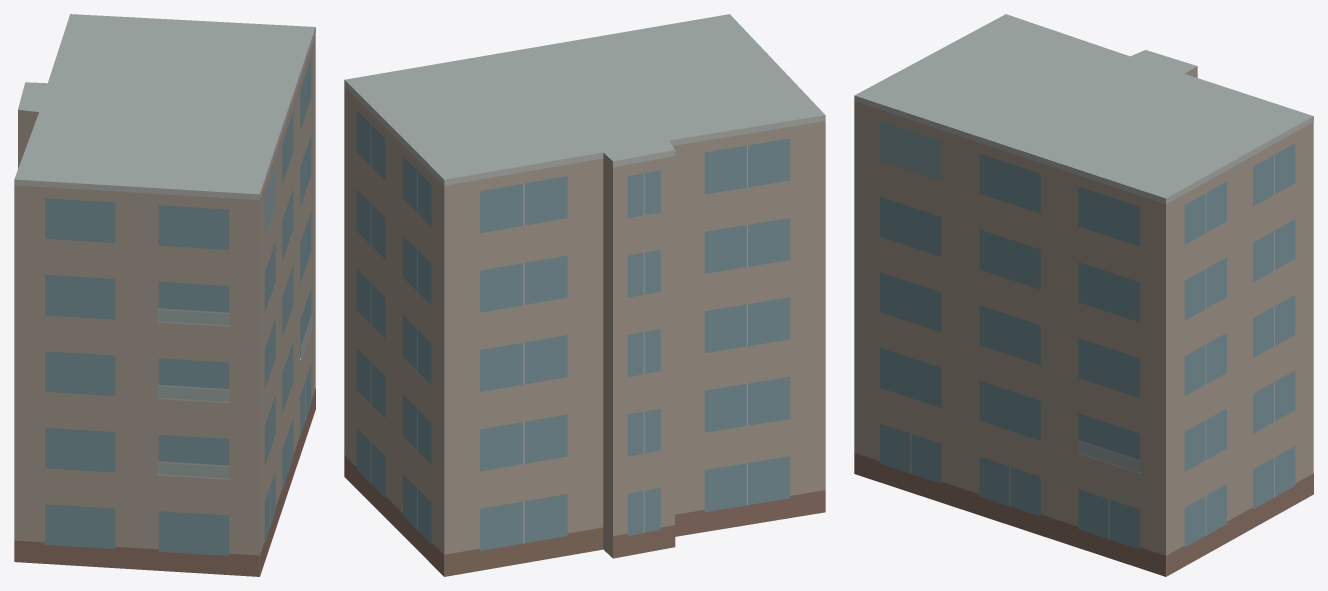
Rendered from survey-upis-32830864.glb.
3 renders of one model, left to right at view 1: azimuth 30°, elevation 25°; view 2: azimuth 150°, elevation 25°; view 3: azimuth 270°, elevation 25°, orthographic. The views are drawn at different scales.
Parts seen in each view (by area): view 1: survey-upis-32830864.tmp; view 2: survey-upis-32830864.tmp; view 3: survey-upis-32830864.tmp.
Part boxes in pixels (box(x1,y1,x2,y2)): survey-upis-32830864.tmp: box(14, 14, 315, 576); survey-upis-32830864.tmp: box(344, 14, 825, 576); survey-upis-32830864.tmp: box(854, 14, 1313, 576).
Size of the model in its own units: 16.88 by 16.12 by 17.75.
